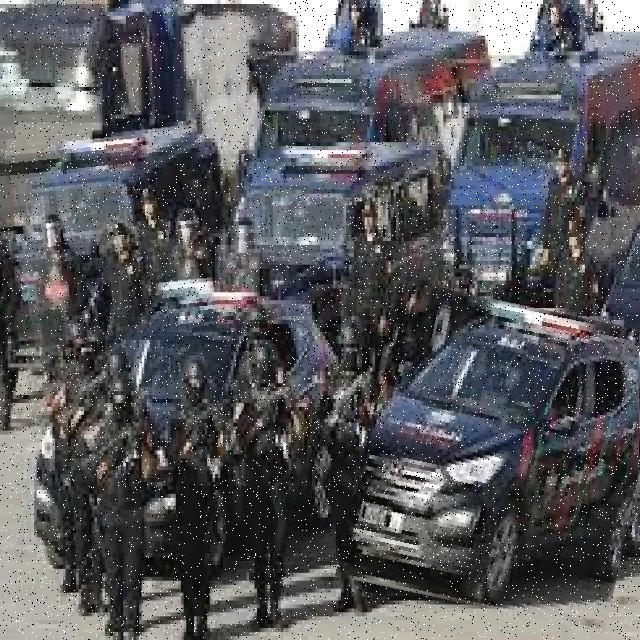police: (349, 291, 640, 620), (0, 125, 212, 344)
